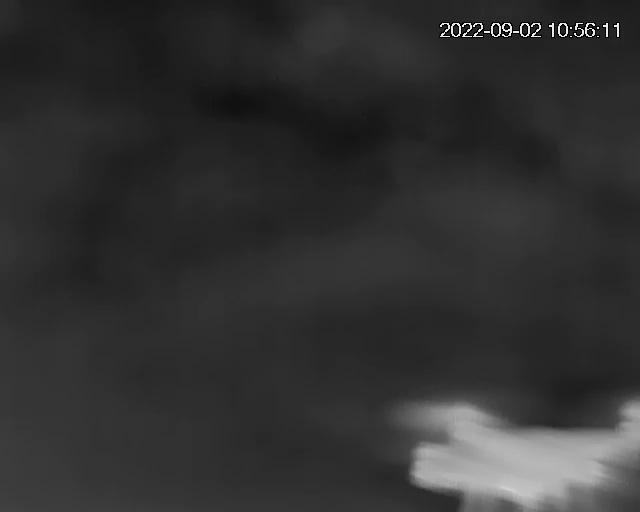DJI-Phantom: (399, 398, 640, 512)
